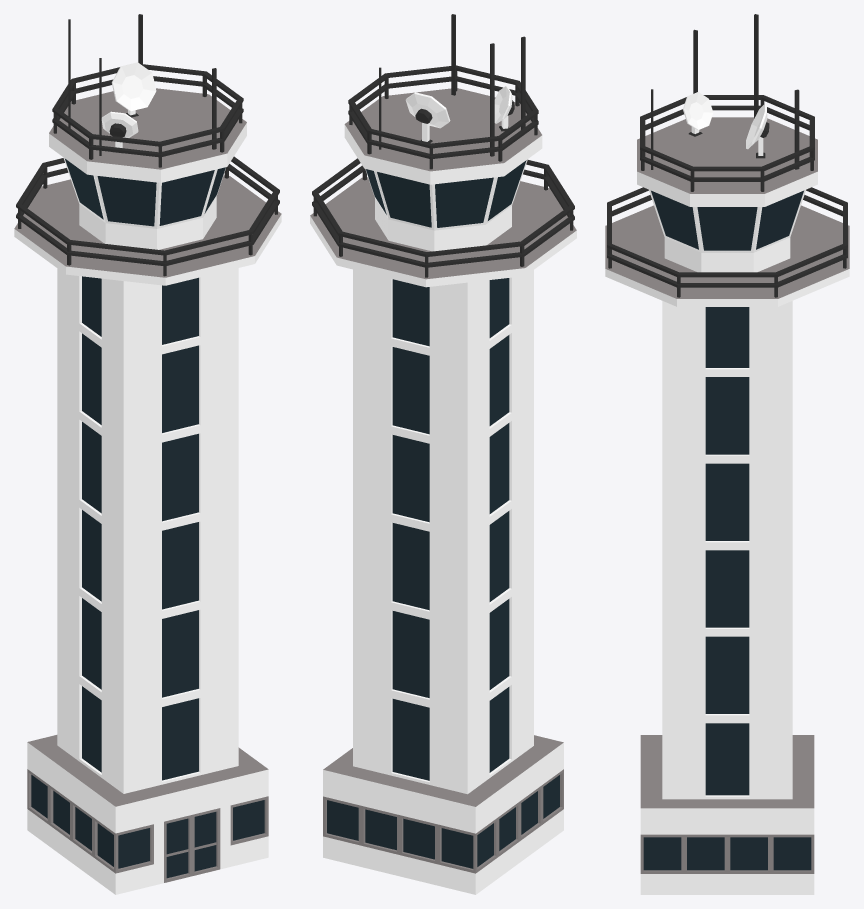
Rendered from control-tower.glb.
3 renders of one model, left to right at view 1: azimuth 30°, elevation 25°; view 2: azimuth 150°, elevation 25°; view 3: azimuth 270°, elevation 25°, orthographic.
Visible parts, largest first — view 1: control-tower; view 2: control-tower; view 3: control-tower.
Part boxes in pixels (box(x1,y1,x2,y2)): control-tower: box(14, 14, 281, 894); control-tower: box(310, 14, 576, 894); control-tower: box(605, 14, 849, 894).
Size of the model in its own units: 8.45 by 31 by 8.45.
Materials: 1 (1 with a texture image).
